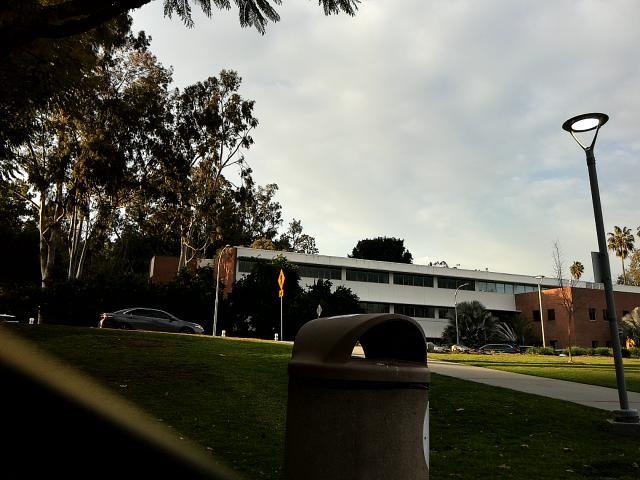trashcan: (283, 306, 446, 480)
